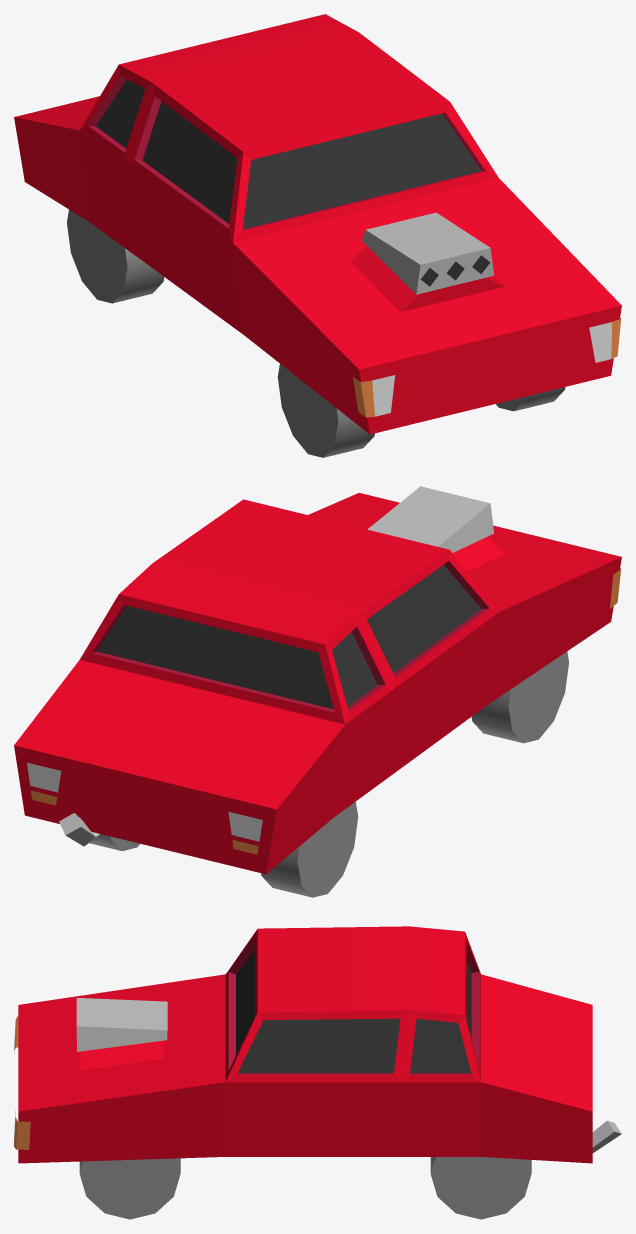
The model's file is musclecar_04.fbx.
3 views of the same model, one above another, from view 1: azimuth 30°, elevation 25°; view 2: azimuth 150°, elevation 25°; view 3: azimuth 270°, elevation 25° (orthographic). The views are drawn at different scales.
Parts seen in each view (by area): view 1: musclecar_04; view 2: musclecar_04; view 3: musclecar_04.
Part boxes in pixels (box(x1,y1,x2,y2)): musclecar_04: box(14, 14, 621, 457); musclecar_04: box(14, 486, 621, 897); musclecar_04: box(14, 926, 621, 1219).
Bounding box in the file's own units: 1.6 × 1.41 × 3.81.
